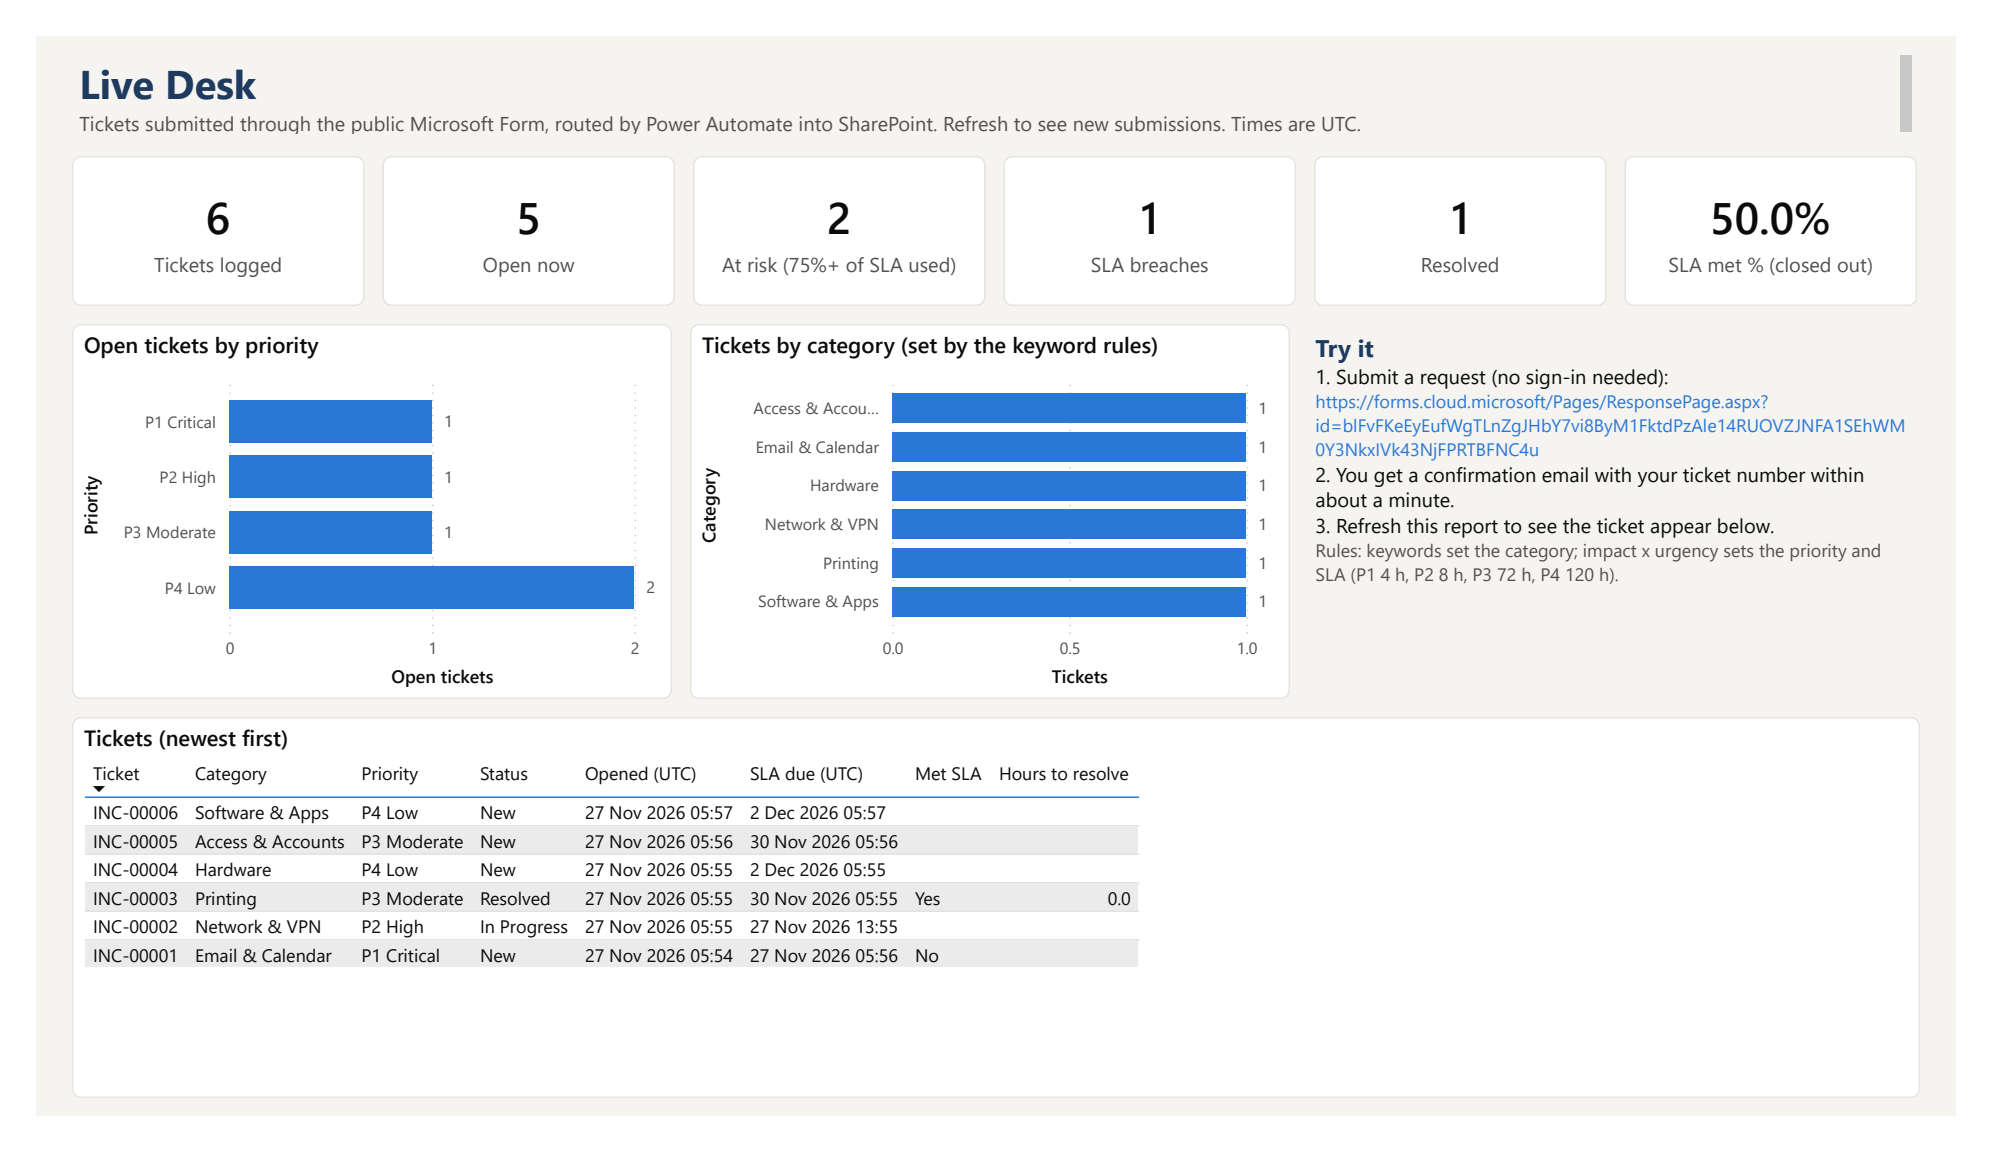

The page's visual inventory and layout, read from the dashboard file:
{"tool":"powerbi","page":{"name":"Live Desk","canvas":[1280,720],"ordinal":4},"visuals":[{"type":"textbox","box":[24,8,1232,62],"z":1000},{"type":"card","fields":{"Values":["Metrics.Live Tickets"]},"box":[24,80,195,100],"z":2000},{"type":"card","fields":{"Values":["Metrics.Live Open"]},"box":[231,80,195,100],"z":3000},{"type":"card","fields":{"Values":["Metrics.Live At Risk"]},"box":[438,80,195,100],"z":4000},{"type":"card","fields":{"Values":["Metrics.Live SLA Breaches"]},"box":[645,80,195,100],"z":5000},{"type":"card","fields":{"Values":["Metrics.Live Resolved"]},"box":[852,80,195,100],"z":6000},{"type":"card","fields":{"Values":["Metrics.Live SLA %"]},"box":[1059,80,195,100],"z":7000},{"type":"clusteredBarChart","title":"Open tickets by priority","fields":{"Category":["Live Tickets.Priority"],"Y":["Metrics.Live Open"]},"box":[24,192,400,250],"z":8000},{"type":"clusteredBarChart","title":"Tickets by category (set by the keyword rules)","fields":{"Category":["Live Tickets.Category"],"Y":["Metrics.Live Tickets"]},"box":[436,192,400,250],"z":9000},{"type":"textbox","box":[848,192,408,250],"z":10000},{"type":"tableEx","title":"Tickets (newest first)","fields":{"Values":["Live Tickets.Ticket","Live Tickets.Category","Live Tickets.Priority","Live Tickets.Status","Live Tickets.OpenedAt","Live Tickets.SlaDueAt","Live Tickets.MetSLA","Live Tickets.ResolutionHours"]},"box":[24,454,1232,254],"z":11000}]}

Visuals, with their boxes in screenshot pixels (x1, y1, x2, y2), scaled from the page's 1280x720 canvas onto the 1992x1152 screenshot:
textbox: [left=37, top=13, right=1955, bottom=112]
card - Metrics.Live Tickets: [left=37, top=128, right=341, bottom=288]
card - Metrics.Live Open: [left=359, top=128, right=663, bottom=288]
card - Metrics.Live At Risk: [left=682, top=128, right=985, bottom=288]
card - Metrics.Live SLA Breaches: [left=1004, top=128, right=1307, bottom=288]
card - Metrics.Live Resolved: [left=1326, top=128, right=1629, bottom=288]
card - Metrics.Live SLA %: [left=1648, top=128, right=1952, bottom=288]
"Open tickets by priority" clusteredBarChart: [left=37, top=307, right=660, bottom=707]
"Tickets by category (set by the keyword rules)" clusteredBarChart: [left=679, top=307, right=1301, bottom=707]
textbox: [left=1320, top=307, right=1955, bottom=707]
"Tickets (newest first)" tableEx: [left=37, top=726, right=1955, bottom=1133]
